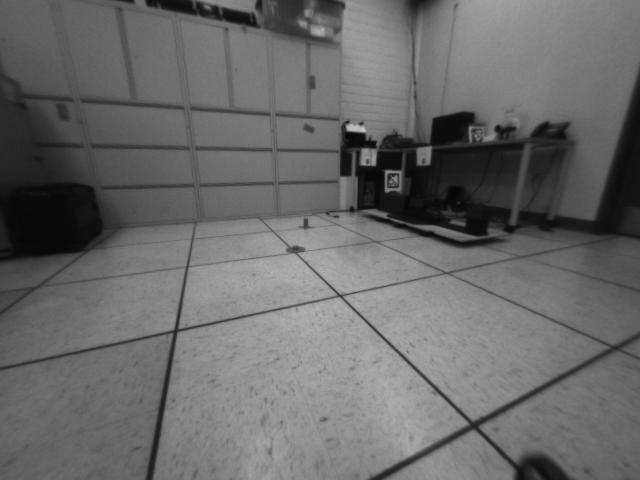X: (298, 217, 313, 230)
